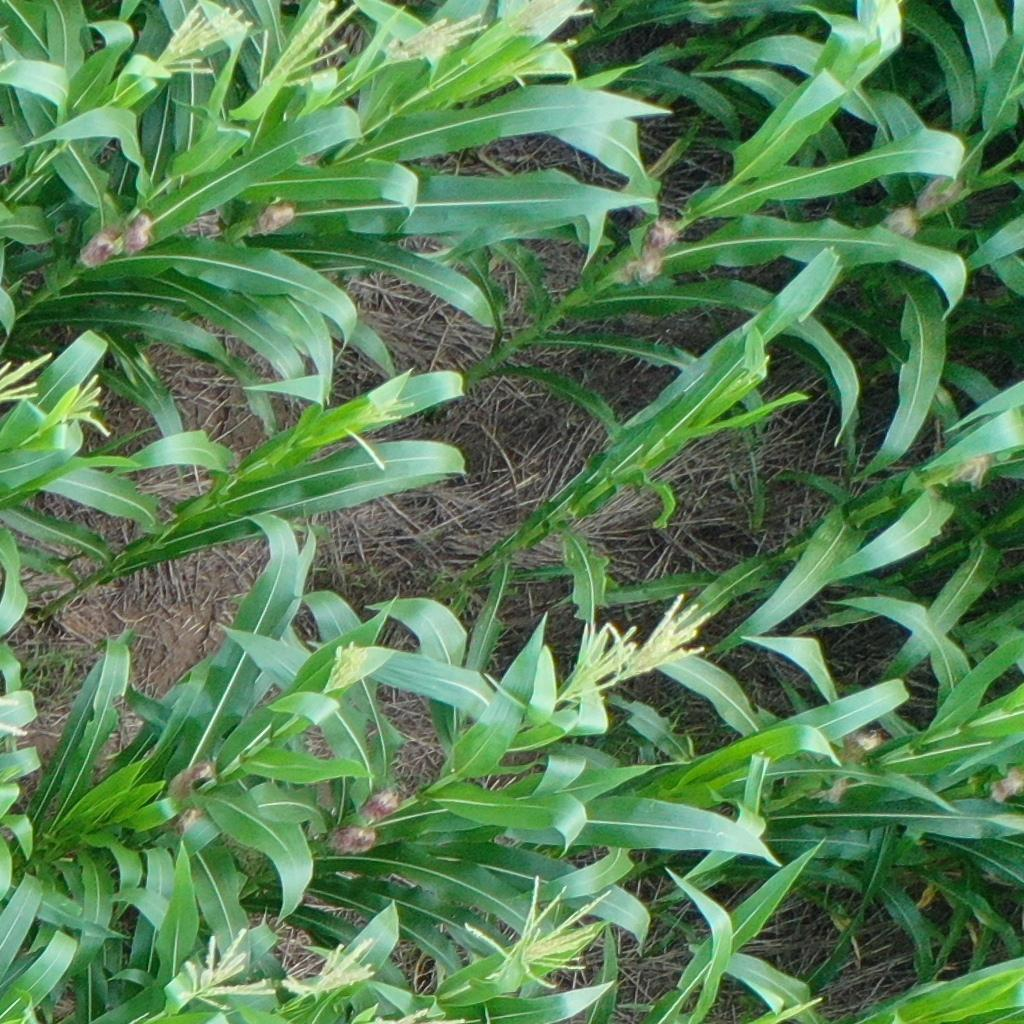Tassel: (452, 869, 609, 998), (552, 597, 711, 703), (170, 922, 275, 1013), (371, 1, 488, 82), (260, 1, 354, 89), (158, 1, 254, 79), (337, 391, 418, 475), (284, 937, 380, 1004), (495, 34, 582, 95), (500, 1, 598, 40), (1, 349, 64, 406), (61, 372, 116, 437), (315, 643, 372, 692), (730, 348, 769, 391), (867, 1, 903, 33)
